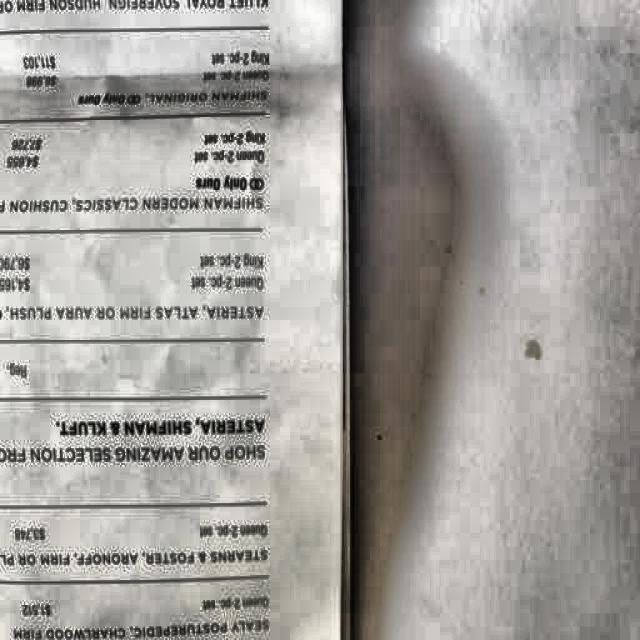Paper: (0, 0, 365, 640)
